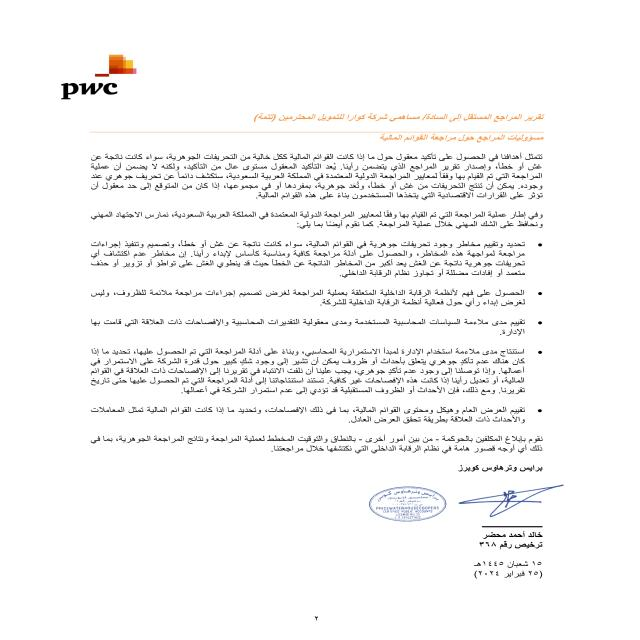auditor_report: (463, 110, 551, 126)
